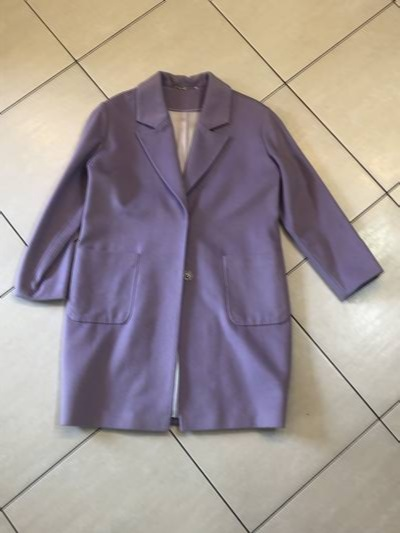Blazer: (14, 49, 381, 448)
